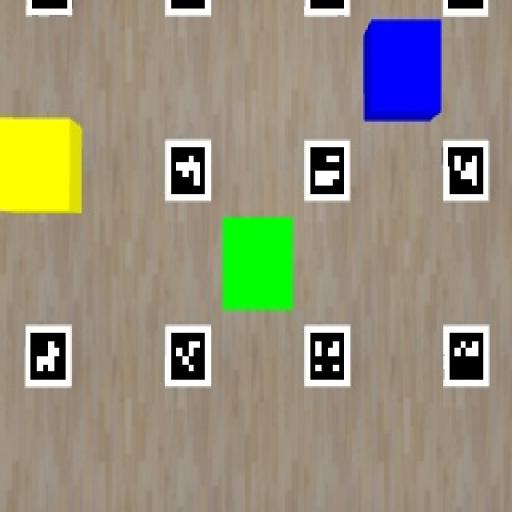car: (364, 20, 441, 121), (221, 218, 294, 311)
fire: (0, 118, 81, 213)
